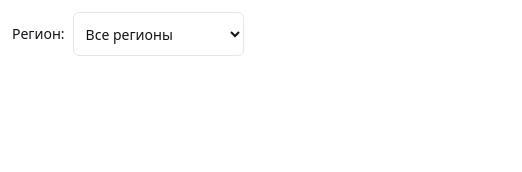
Scenario: RegionSelect › «Ближайшие ко мне» при отказе геолокации показывает плейсхолдер
Select "Ближайшие ко мне" in the dropdown: (158, 34) [73,12,244,56]
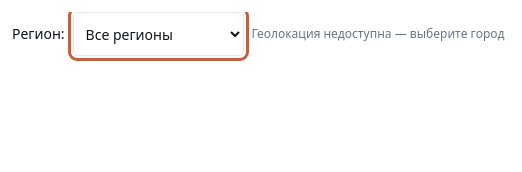
Result: the text "Геолокация недоступна — выберите город" is shown at [252,26,505,42]
